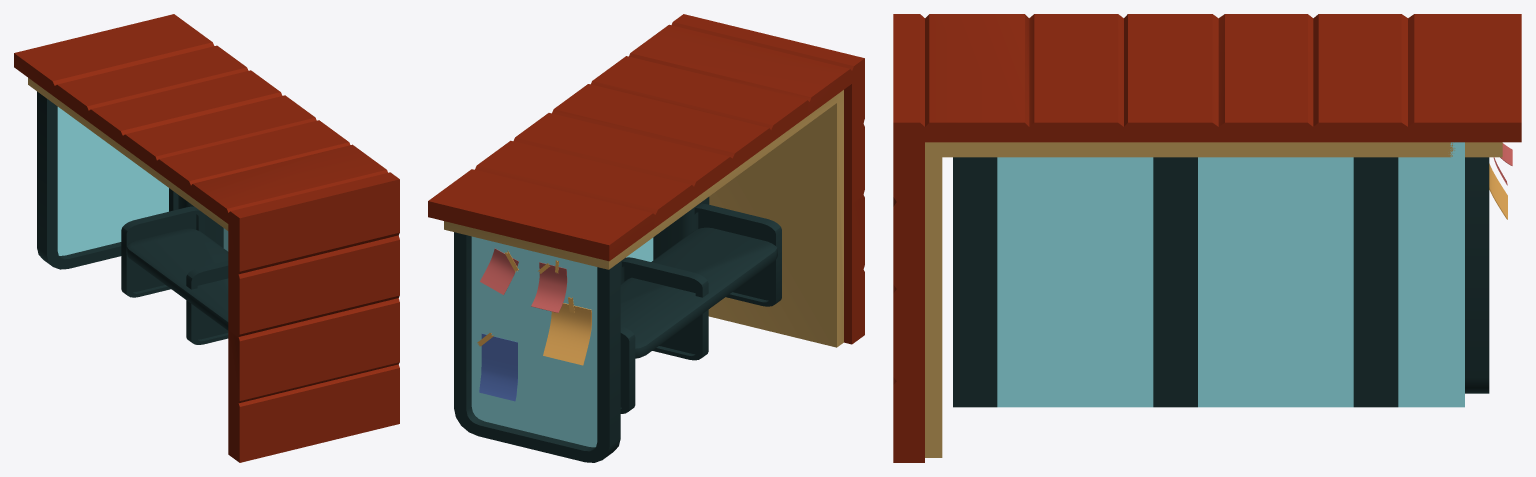
File: bus stop.fbx
3 renders of one model, left to right at view 1: azimuth 30°, elevation 25°; view 2: azimuth 150°, elevation 25°; view 3: azimuth 270°, elevation 25°, orthographic. The views are drawn at different scales.
Visible parts, largest first — view 1: Cube.013, Cube.014, Plane, Cube.019, Cube; view 2: Cube.013, Cube.014, Plane, Cube.019, Tape L.007, Cube; view 3: Cube, Cube.013, Cube.014, Tape L.007.
Part boxes in pixels (x1,y1,x2,y2): Cube.013: (14, 14, 399, 462); Cube.014: (37, 91, 178, 269); Plane: (126, 228, 228, 330); Cube.019: (121, 206, 228, 344); Cube: (178, 195, 228, 251); Cube.013: (428, 14, 864, 347); Cube.014: (454, 232, 620, 462); Plane: (620, 227, 777, 358); Cube.019: (620, 203, 781, 413); Tape L.007: (477, 248, 591, 401); Cube: (620, 197, 709, 283); Cube: (953, 142, 1464, 407); Cube.013: (893, 14, 1521, 462); Cube.014: (1465, 157, 1489, 393); Tape L.007: (1489, 143, 1512, 219).
Bounding box in the file's own units: 248 × 607 × 363.
